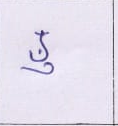u_matra: (22, 62, 56, 75)
